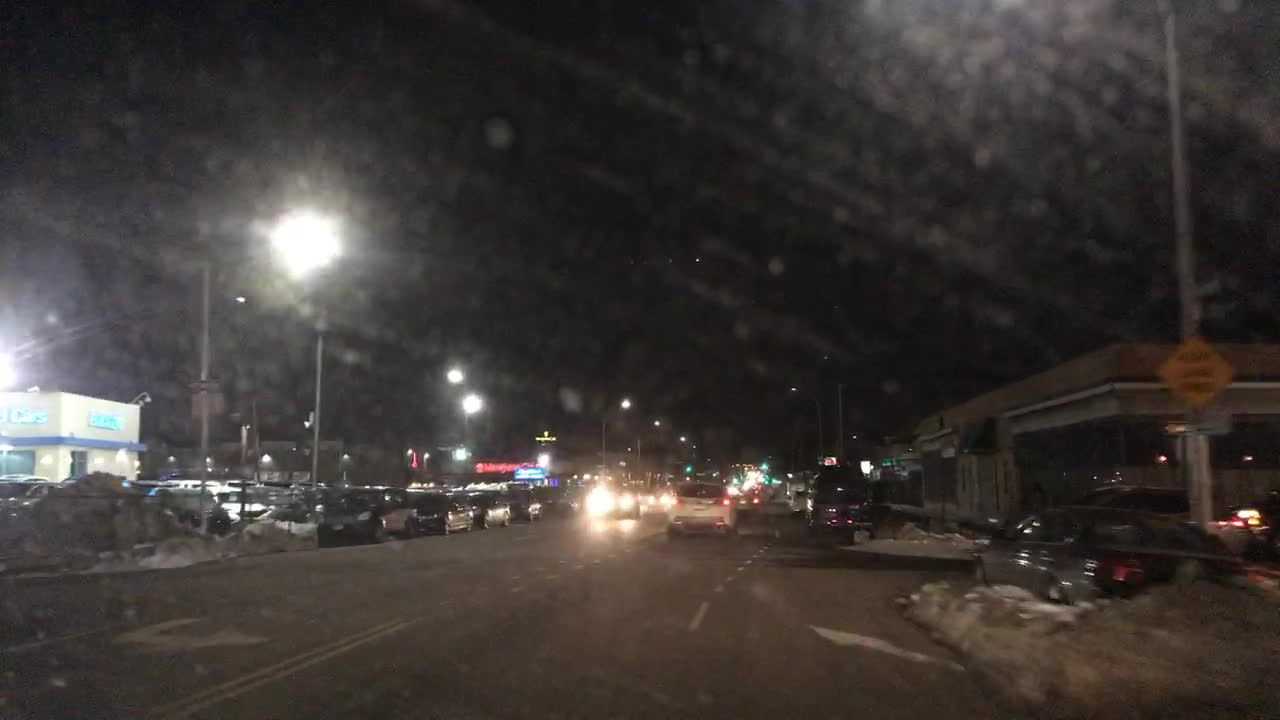car: (967, 504, 1246, 603), (1066, 481, 1252, 554), (804, 467, 874, 532), (667, 476, 737, 536), (147, 486, 230, 534), (417, 488, 485, 537), (317, 497, 382, 545), (210, 484, 299, 517), (1235, 491, 1278, 553), (0, 475, 58, 520), (583, 476, 642, 518), (372, 484, 413, 534), (255, 505, 319, 537), (469, 491, 512, 528), (337, 484, 382, 517), (507, 483, 541, 523), (303, 484, 341, 519), (784, 469, 811, 513), (121, 475, 170, 494), (167, 476, 218, 494), (0, 467, 46, 483), (642, 486, 670, 511), (731, 486, 758, 511), (553, 491, 580, 514), (224, 475, 260, 488)
traffic sign: (1158, 336, 1235, 409), (1162, 417, 1233, 437)
